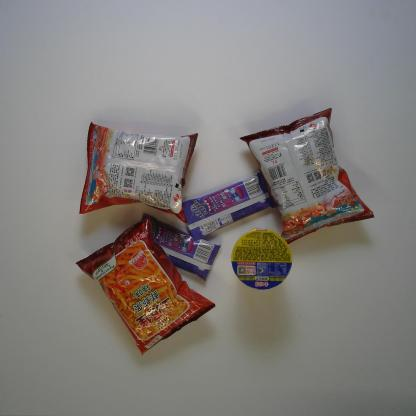Candy: (176, 171, 278, 243), (134, 210, 222, 281)
Instant Noodles: (229, 227, 295, 291)
Puffed Food: (76, 214, 216, 360), (238, 107, 376, 244), (77, 121, 200, 227)
